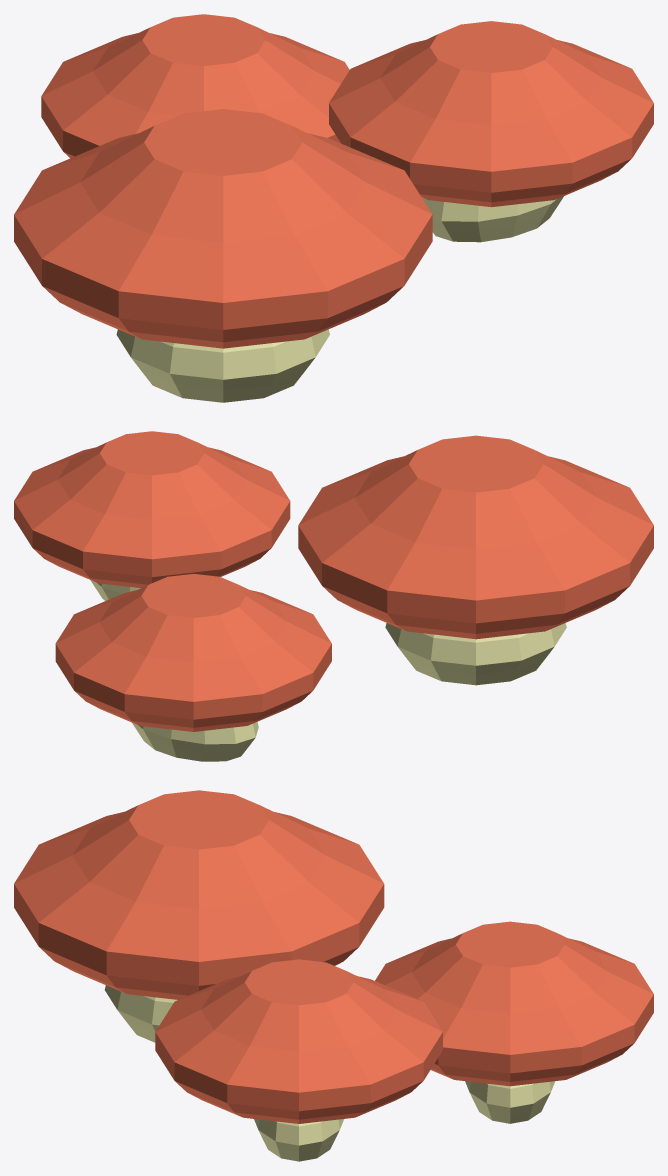
The model's file is mashroom 1.fbx.
3 renders of one model, top to bottom at view 1: azimuth 30°, elevation 25°; view 2: azimuth 150°, elevation 25°; view 3: azimuth 270°, elevation 25°, orthographic. The views are drawn at different scales.
Visible parts, largest first — view 1: Circle.001; view 2: Circle.001; view 3: Circle.001.
Part boxes in pixels (bbox=[...]): Circle.001: bbox=[14, 14, 653, 402]; Circle.001: bbox=[14, 431, 653, 761]; Circle.001: bbox=[14, 790, 653, 1161].
Bounding box in the file's own units: 673 × 239 × 652.
